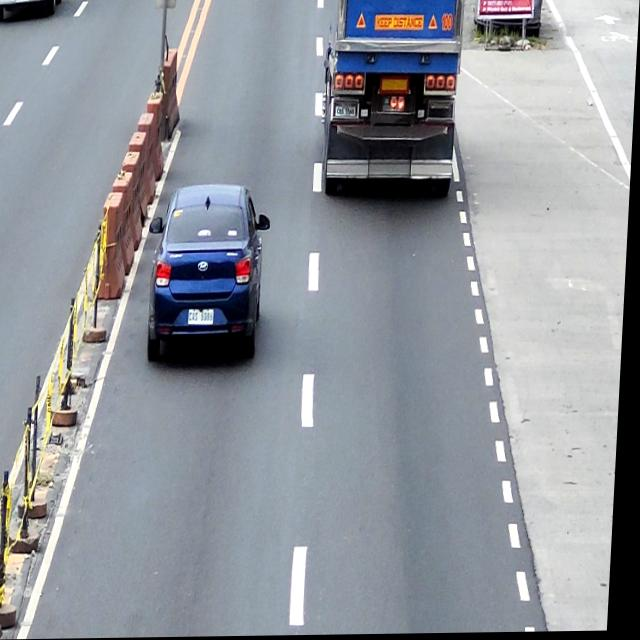Car: (147, 183, 274, 366)
License-Plate: (191, 311, 218, 326), (336, 106, 357, 120)
Truck: (319, 0, 467, 203)
